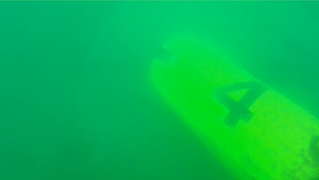4: (212, 81, 268, 129)
pipe: (150, 34, 319, 180)
